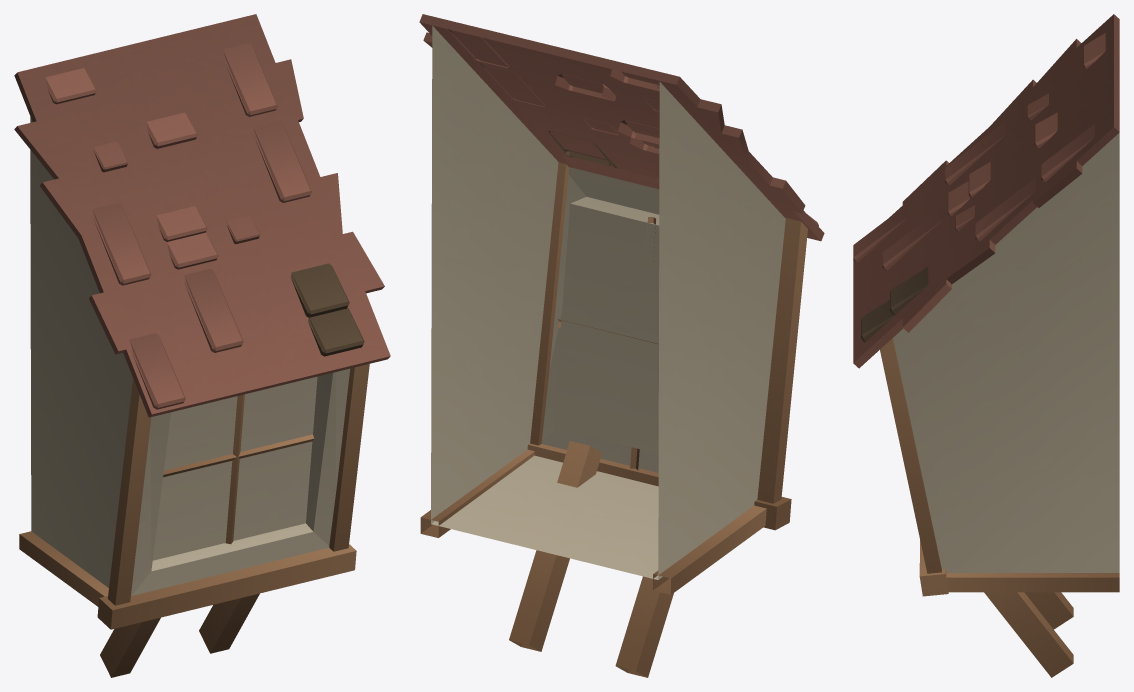
File: ZLP_Build_B_23.FBX
The picture shows the model from 3 angles, left to right: view 1: azimuth 30°, elevation 25°; view 2: azimuth 150°, elevation 25°; view 3: azimuth 270°, elevation 25°; orthographic projection. The views are drawn at different scales.
Visible parts, largest first — view 1: ZLP_Build_B_23; view 2: ZLP_Build_B_23; view 3: ZLP_Build_B_23.
Boxes of the visible parts, <box> form: ZLP_Build_B_23: <box>14,14,390,677</box>; ZLP_Build_B_23: <box>419,14,824,677</box>; ZLP_Build_B_23: <box>853,14,1119,677</box>.
Bounding box in the file's own units: 155 × 317 × 132.
